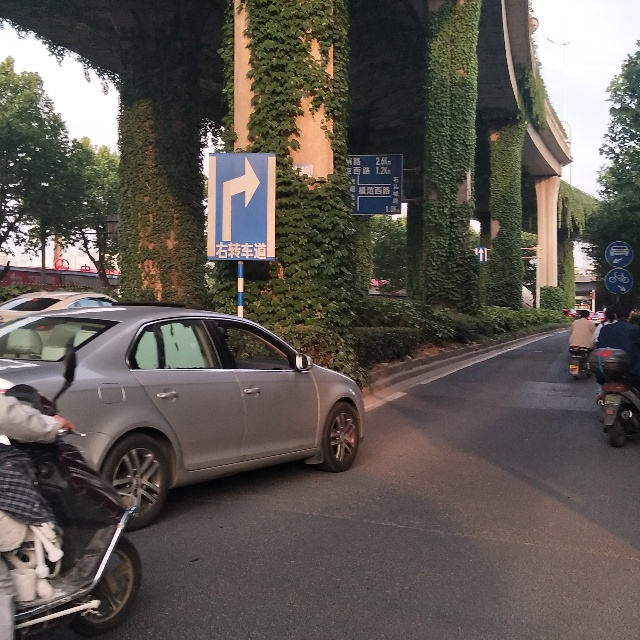right: (208, 153, 276, 261)
